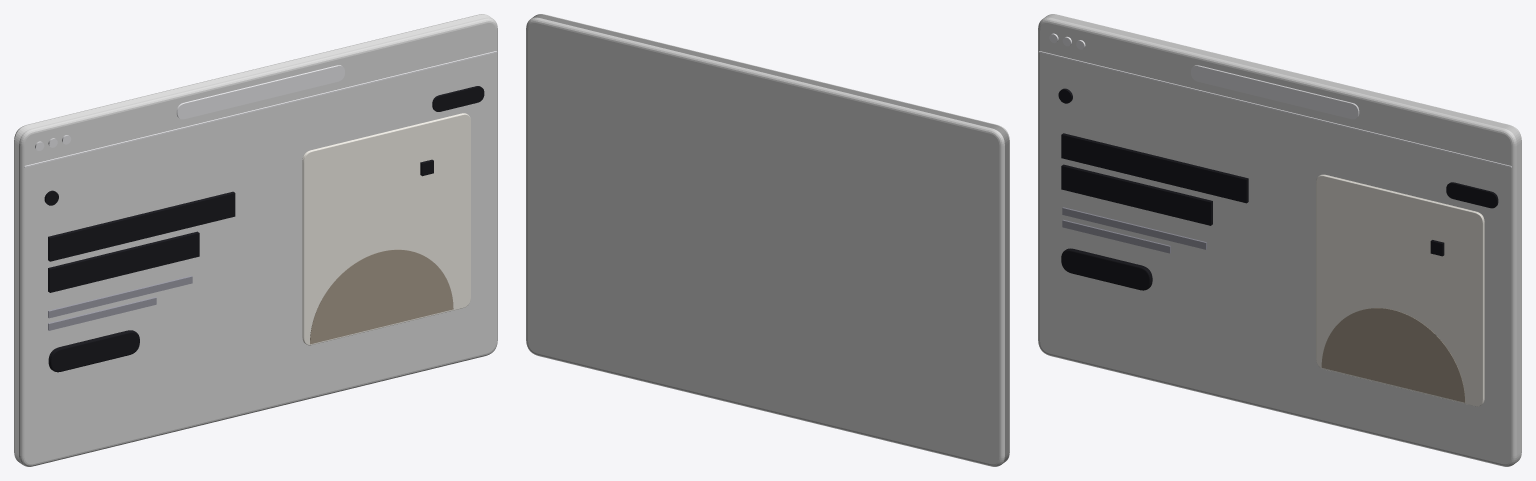
File: browser-window.glb
The picture shows the model from 3 angles, left to right: view 1: azimuth 30°, elevation 25°; view 2: azimuth 150°, elevation 25°; view 3: azimuth 330°, elevation 25°; orthographic projection.
Visible parts, largest first — view 1: frame, image, image-disc, headline-1, headline-2, address, button, copy-1, bar, copy-2, nav-cta; view 2: frame; view 3: frame, image, image-disc, headline-1, headline-2, address, button, copy-1, bar, copy-2, nav-cta.
Part boxes in pixels (x1,y1,x2,y2): frame: (14,14,497,466); image: (302,113,470,345); image-disc: (310,249,453,344); headline-1: (48,191,235,261); headline-2: (48,231,199,292); address: (176,65,344,119); button: (48,330,139,372); copy-1: (48,276,192,318); bar: (24,51,497,167); copy-2: (48,297,156,330); nav-cta: (432,86,484,111); frame: (526,14,1009,466); frame: (1038,14,1521,466); image: (1316,174,1484,406); image-disc: (1321,308,1465,402); headline-1: (1061,133,1248,203); headline-2: (1061,164,1212,225); address: (1191,65,1359,119); button: (1061,248,1152,290); copy-1: (1062,207,1206,249); bar: (1038,51,1511,167); copy-2: (1062,219,1170,253); nav-cta: (1446,182,1498,208).
Bounding box in the file's own units: 1.6 × 1.08 × 0.07.
